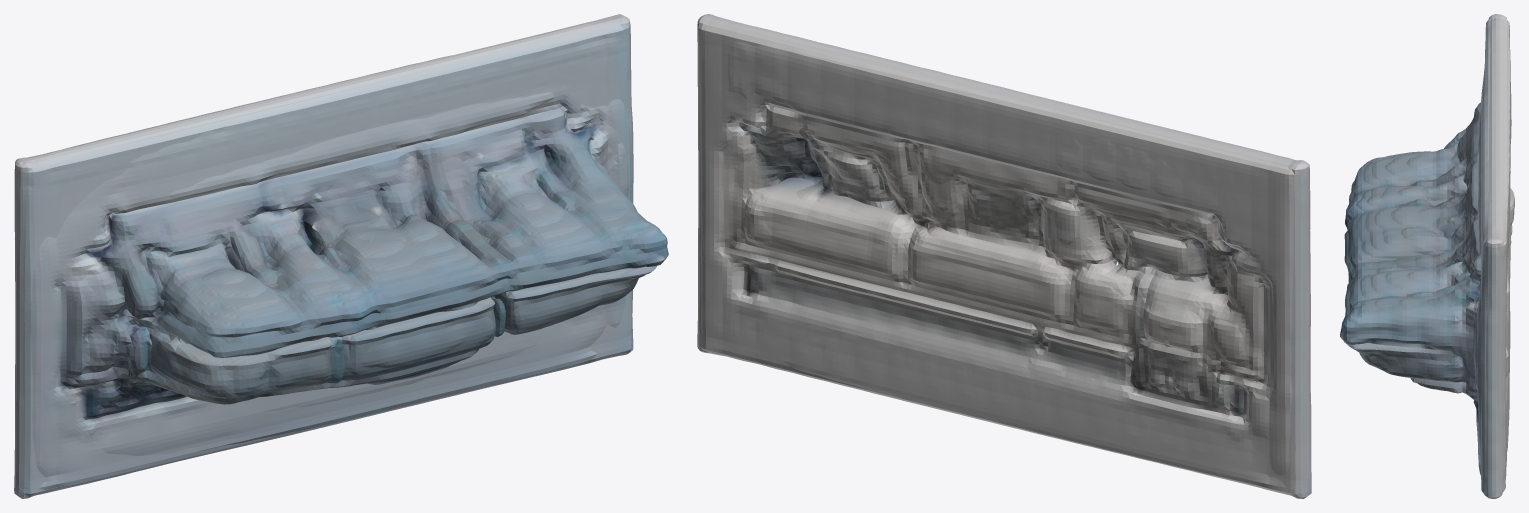
The picture shows the model from 3 angles, left to right: view 1: azimuth 30°, elevation 25°; view 2: azimuth 150°, elevation 25°; view 3: azimuth 270°, elevation 25°; orthographic projection. The views are drawn at different scales.
Visible parts, largest first — view 1: world; view 2: world; view 3: world.
Boxes of the visible parts, x1,y1,x2,y2 form: world: (14, 14, 668, 498); world: (697, 14, 1311, 498); world: (1340, 14, 1514, 498).
Size of the model in its own units: 0.9997 by 0.5232 by 0.3207.
